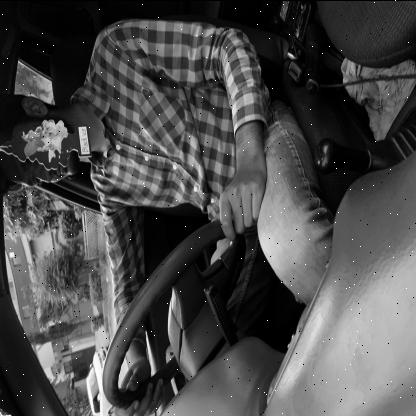no_seatbelt: (0, 75, 206, 230)
